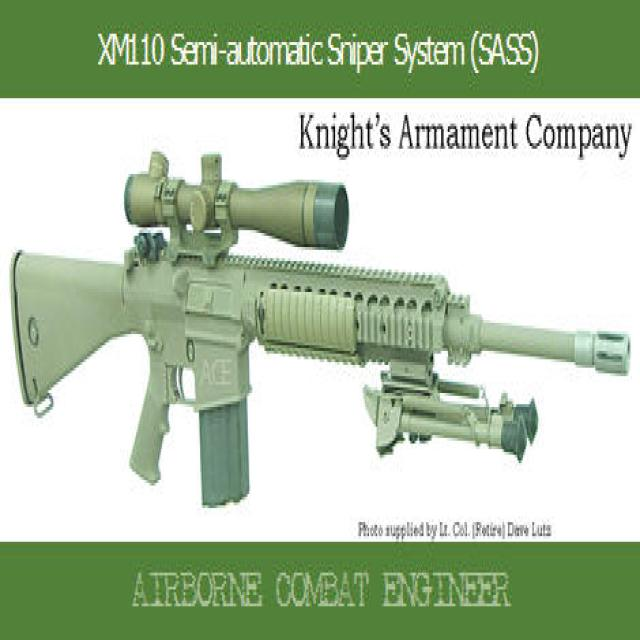Rifle: (11, 152, 632, 511)
